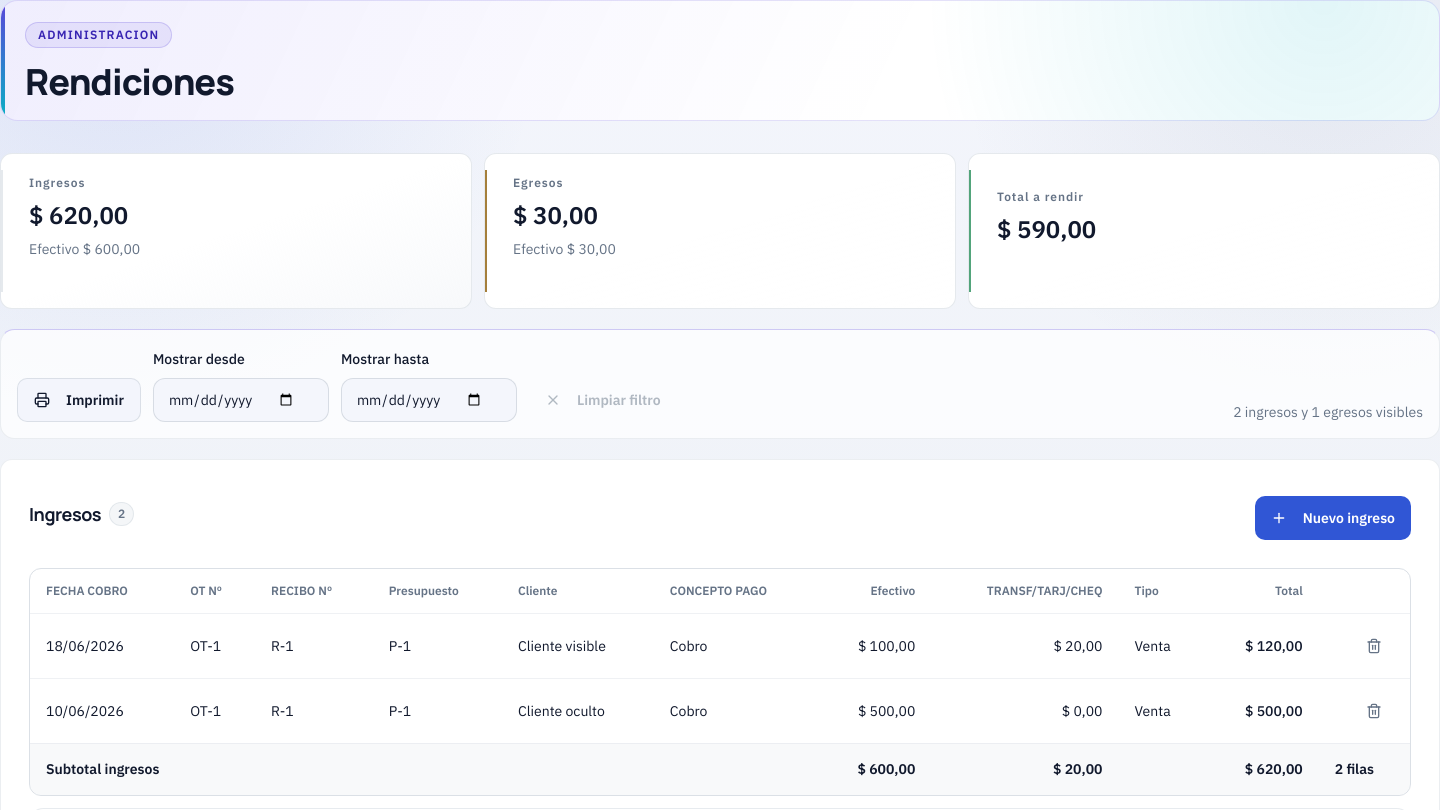
SettlementsPage › shows the requested columns and filters rows and totals by date
This screenshot has width=1440, height=810.
Check: the column heading "FECHA COBRO" is shown, box [30,569,174,613]
Check: the column heading "OT Nº" is shown, box [174,569,255,613]
Type "2026-06-18" into the date field labelled "Mostrar desde" at (241, 400), box [153,378,329,422]
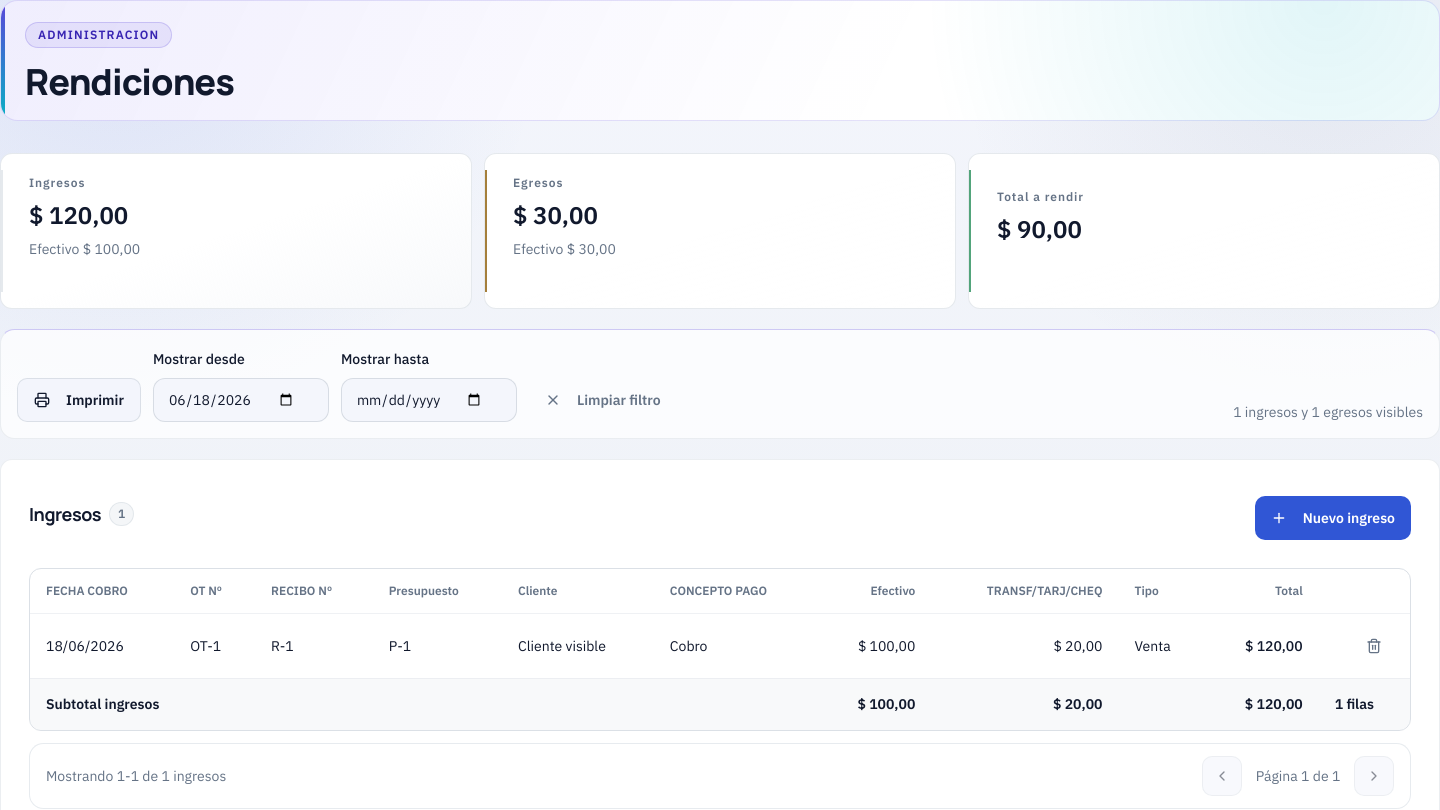
Check: the text "Cliente visible" is shown, box [502,613,654,678]
Check: the text "Cliente oculto" is gone
Check: the text "1 ingresos y 1 egresos visibles" is shown, box [1233,402,1423,422]
